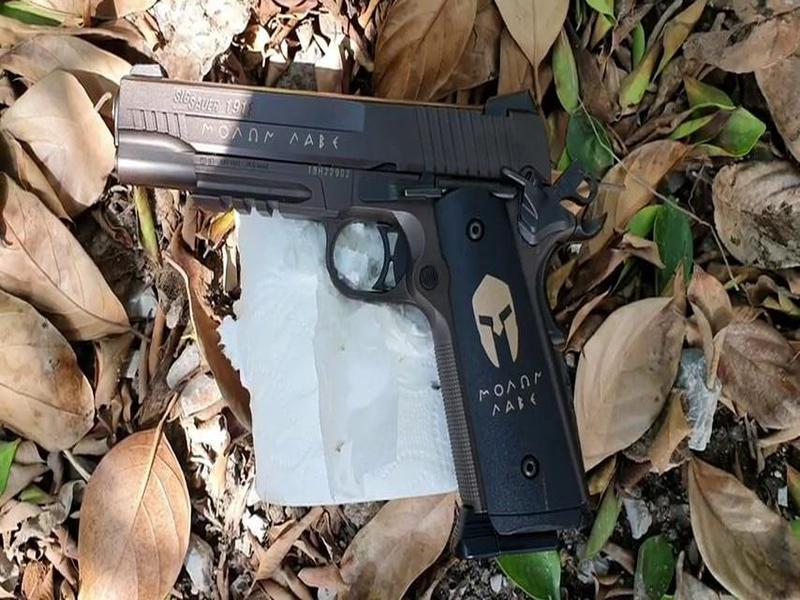Pistola: (90, 54, 612, 557)
